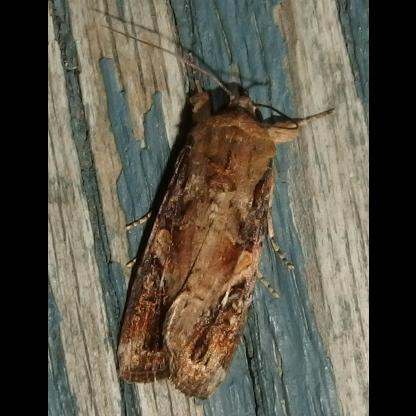Fall Armyworm Moth: (95, 20, 339, 404)
